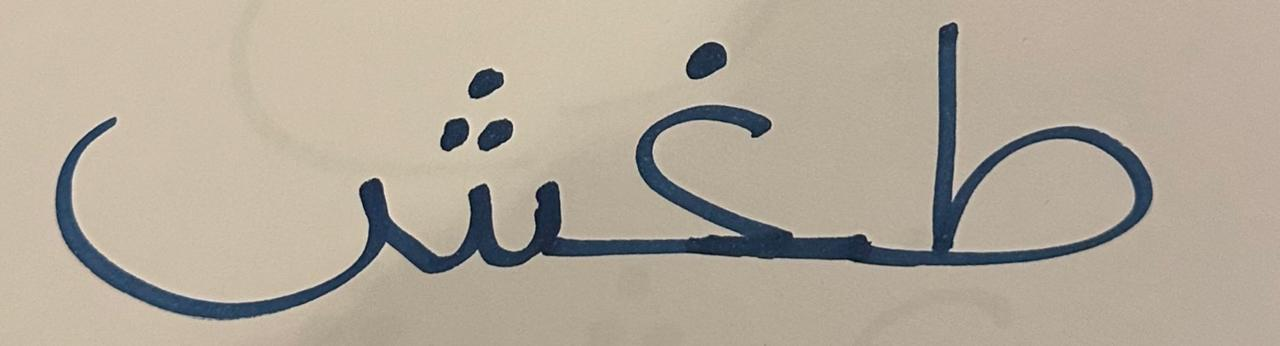ghain: (582, 6, 847, 315)
tah: (9, 10, 577, 335)
teh: (850, 4, 1193, 325)
